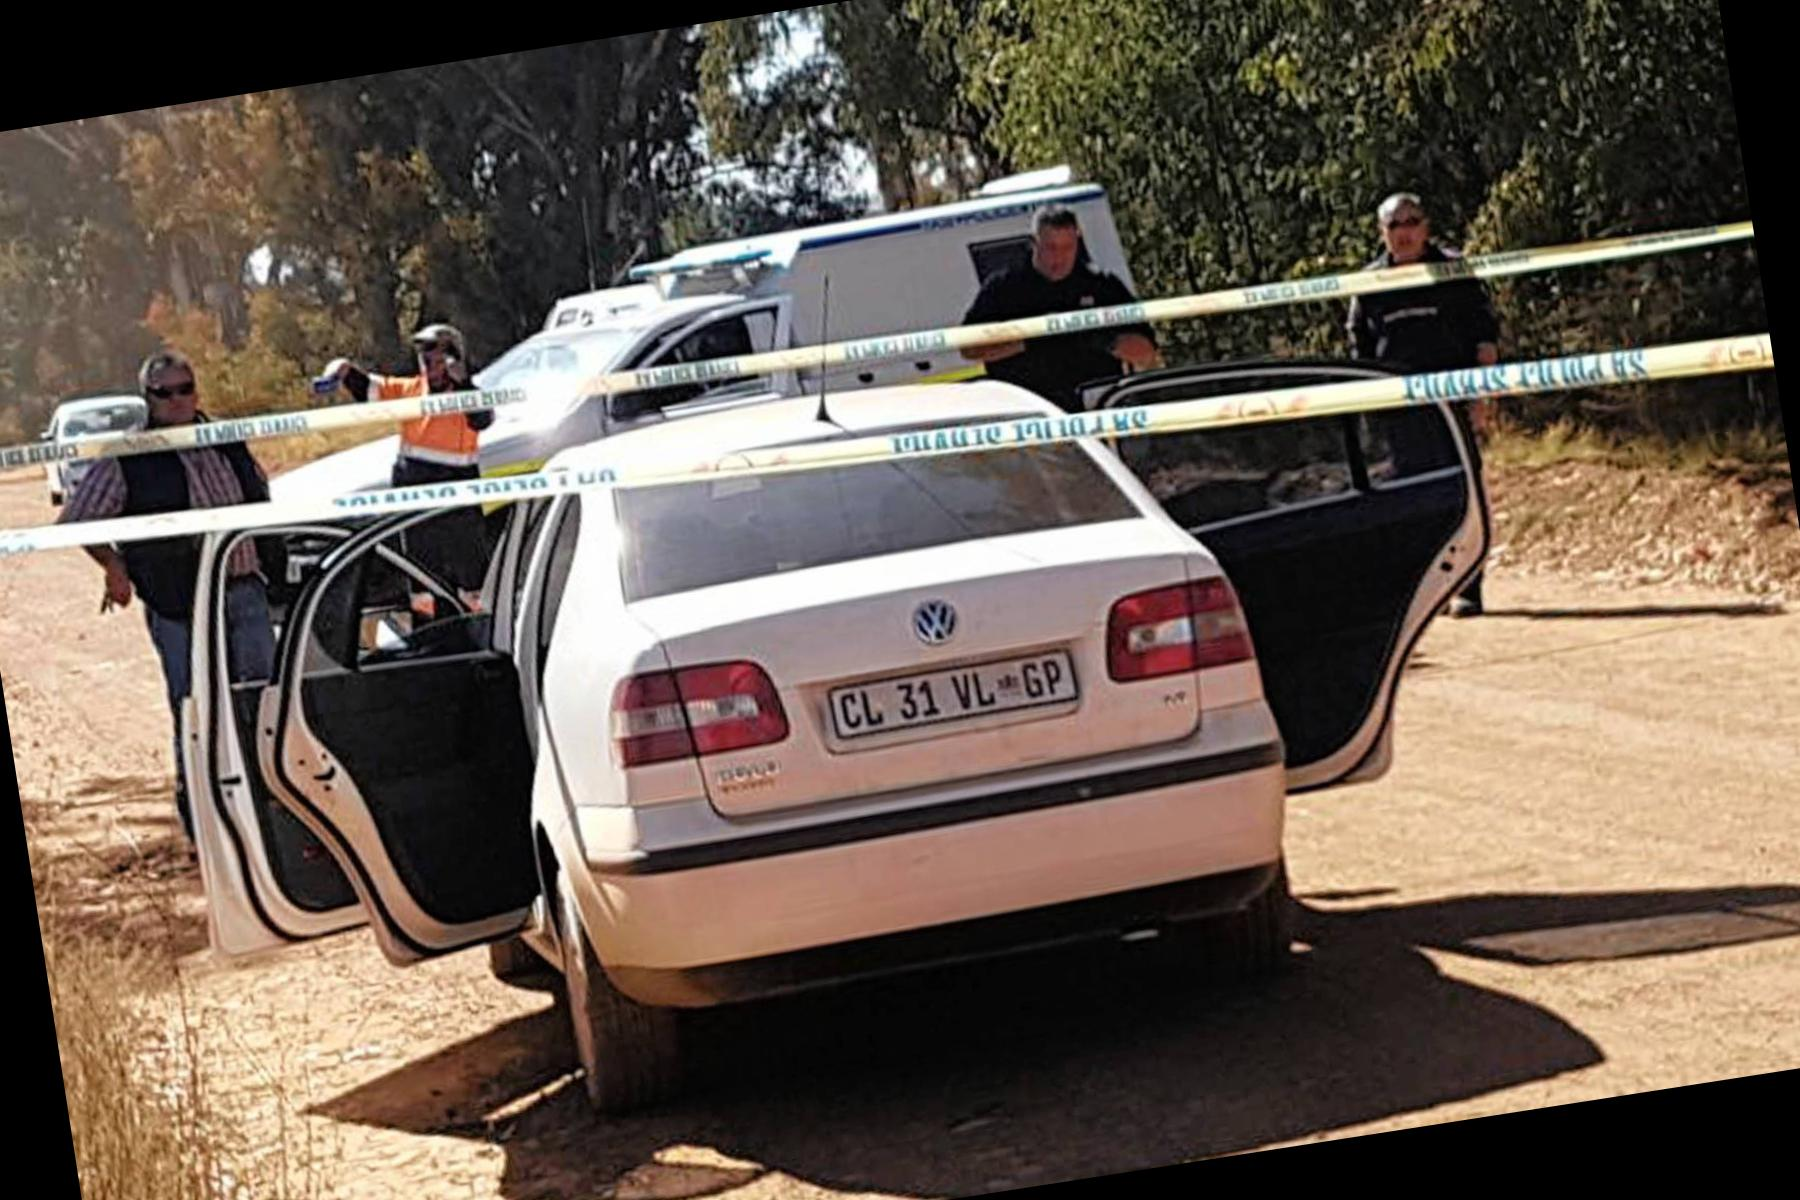plate: (793, 623, 1098, 758)
